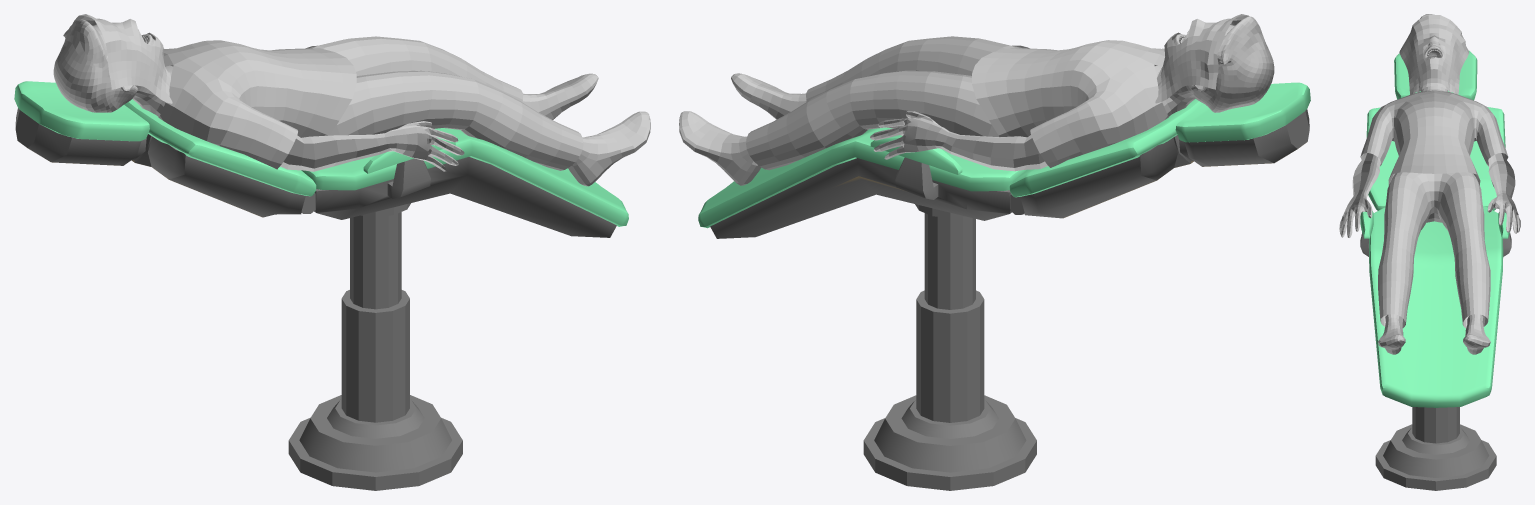
The model's file is Patient_on_Bed.fbx.
The picture shows the model from 3 angles, left to right: view 1: azimuth 30°, elevation 25°; view 2: azimuth 150°, elevation 25°; view 3: azimuth 270°, elevation 25°; orthographic projection. The views are drawn at different scales.
Visible parts, largest first — view 1: pCylinder3, Shirt, Pants, pCube5, pCube11, pCube10, Arm, pCylinder2, Foot, pCube13, Hair, pCube12 (+2 smaller); view 2: pCylinder3, Shirt, Pants, pCube5, pCube11, pCube10, Arm, pCylinder2, Foot, pCube13, Hair, pCube12 (+3 smaller); view 3: pCube10, Pants, Shirt, pCylinder3, Cloth, Arm, pCube12, Foot, pCube13, pCube14, Head, pCube5.
Part boxes in pixels (x1,y1,x2,y2): pCylinder3: (288, 290, 462, 490); Shirt: (158, 40, 356, 169); Pants: (310, 36, 583, 170); pCube5: (314, 157, 616, 237); pCube11: (15, 108, 305, 217); pCube10: (301, 128, 628, 226); Arm: (280, 46, 464, 171); pCylinder2: (350, 203, 410, 309); Foot: (522, 73, 650, 186); pCube13: (14, 81, 149, 141); Hair: (53, 19, 137, 112); pCube12: (124, 99, 316, 196); pCylinder3: (863, 290, 1036, 490); Shirt: (972, 40, 1168, 167); Pants: (746, 36, 1018, 170); pCube5: (710, 157, 1011, 238); pCube11: (1020, 109, 1309, 218); pCube10: (698, 127, 1026, 228); Arm: (870, 45, 1047, 171); pCylinder2: (915, 204, 975, 309); Foot: (679, 73, 806, 185); pCube13: (1175, 82, 1310, 142); Hair: (1191, 16, 1274, 112); pCube12: (1009, 99, 1203, 197); pCube10: (1369, 206, 1503, 407); Pants: (1378, 172, 1490, 328); Shirt: (1360, 90, 1508, 185); pCylinder3: (1375, 407, 1496, 490); Cloth: (1399, 15, 1469, 94); Arm: (1339, 153, 1520, 237); pCube12: (1366, 107, 1505, 210); Foot: (1378, 314, 1490, 354); pCube13: (1394, 50, 1477, 100); pCube14: (1360, 211, 1509, 238); Head: (1420, 41, 1447, 91); pCube5: (1360, 232, 1511, 396).
Size of the model in its own units: 193 by 156 by 72.76.
